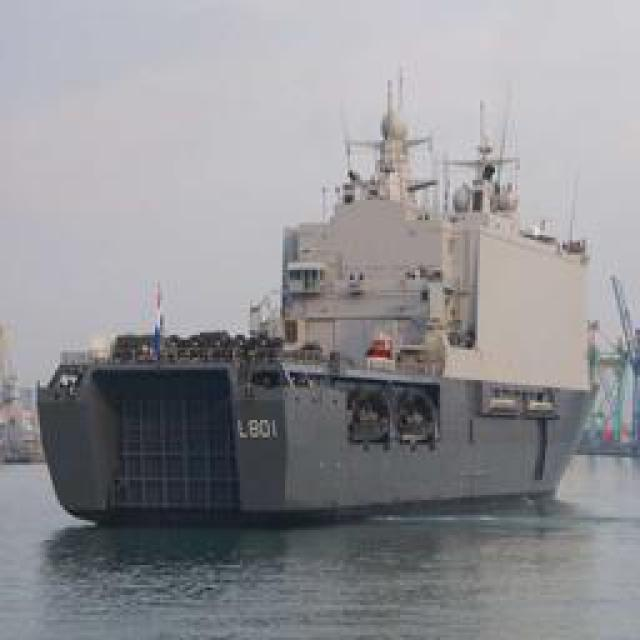Ship: (28, 50, 613, 525)
